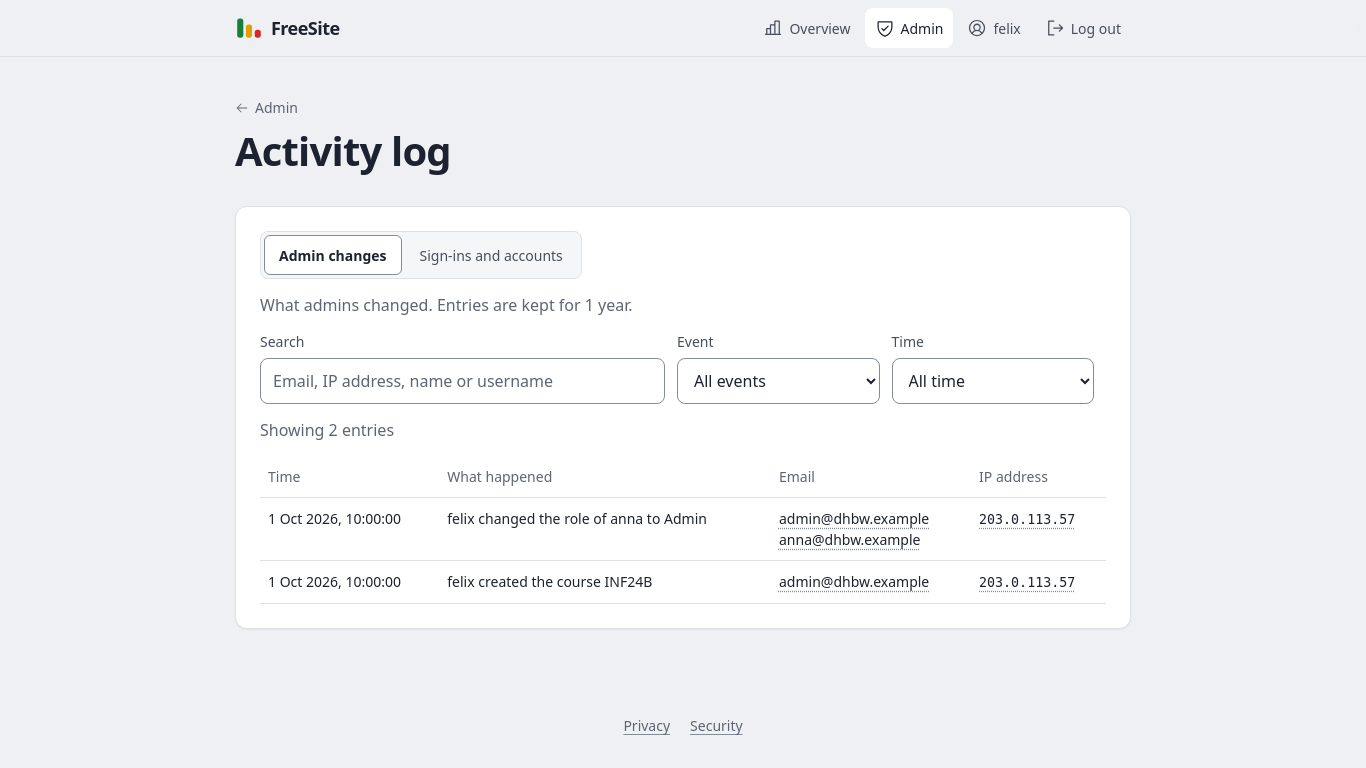
Test: ActivityPage › writes an entry of a deleted account as such
The width and height of the screenshot is (1366, 768).
Check: the column heading "felix created the course INF24B" is shown, box [439,560,771,603]
What coordinates should you click on to do the following:
click the button "Sign-ins and accounts"
I would click on:
 (491, 255)
Its box is [404,235,578,275].
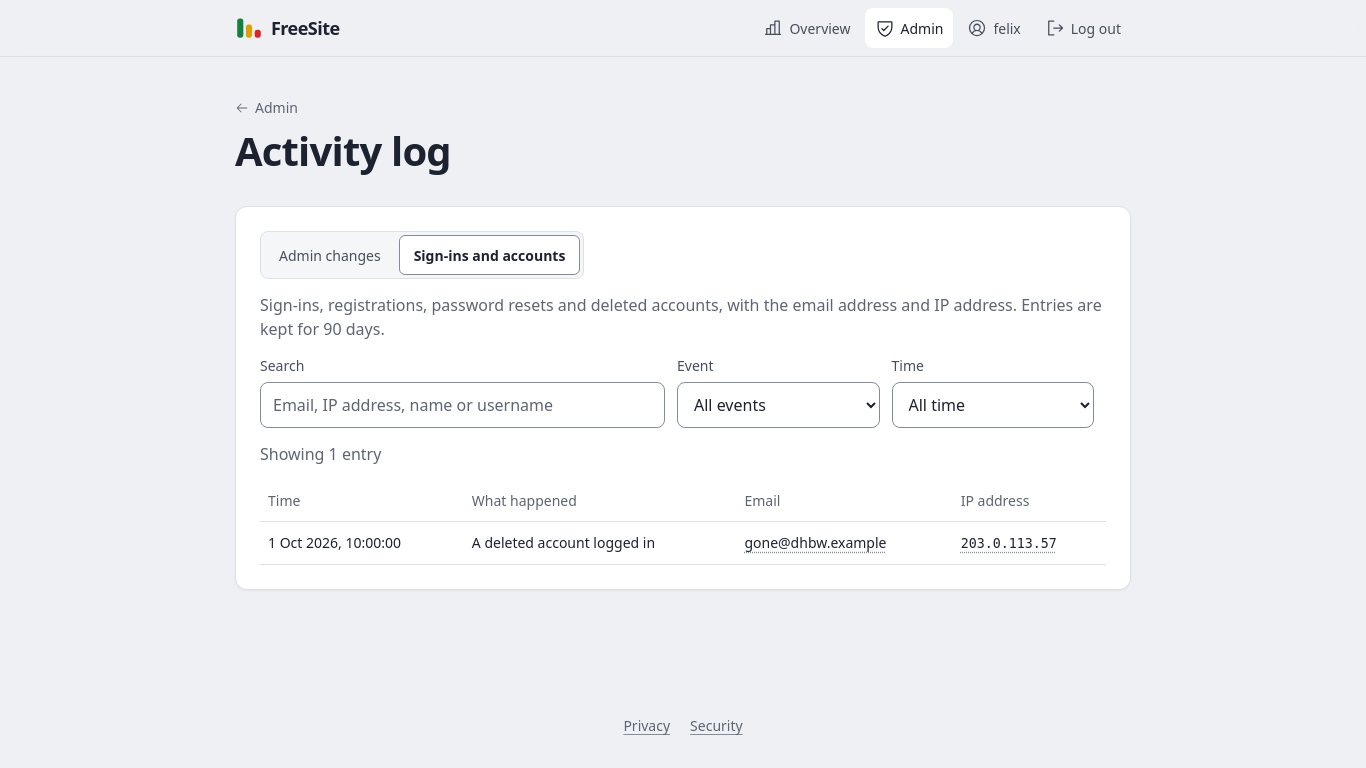
Check: the column heading "A deleted account logged in" is shown, box [464,522,736,564]
